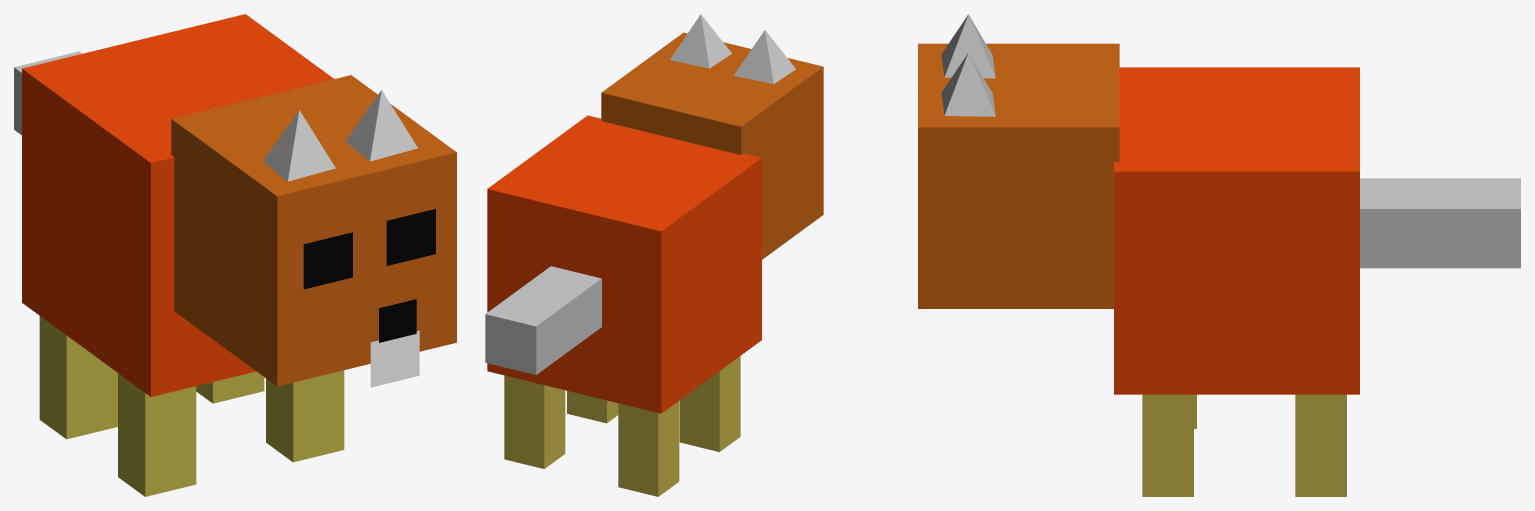
The model's file is cat1x.obj.
The picture shows the model from 3 angles, left to right: view 1: azimuth 30°, elevation 25°; view 2: azimuth 150°, elevation 25°; view 3: azimuth 270°, elevation 25°; orthographic projection. The views are drawn at different scales.
Parts seen in each view (by area): view 1: 立方体_材质.002, Cube_Material, 立方体.003_材质.017, 立方体.004_材质.006, 立方体.002_材质.016, 锥体_材质.019, 锥体.001_材质.020, 立方体.007_材质.018, 立方体.010_材质.010, 立方体.011_材质.011, 立方体.001_材质.015, 立方体.008_材质.008 (+1 smaller); view 2: Cube_Material, 立方体_材质.002, 立方体.005_材质.007, 立方体.004_材质.006, 立方体.001_材质.015, 立方体.003_材质.017, 锥体.001_材质.020, 锥体_材质.019, 立方体.002_材质.016; view 3: Cube_Material, 立方体_材质.002, 立方体.005_材质.007, 立方体.001_材质.015, 立方体.002_材质.016, 锥体.001_材质.020, 锥体_材质.019.
Boxes of the visible parts, bbox=[...] form: 立方体_材质.002: bbox=[171, 75, 456, 386]; Cube_Material: bbox=[22, 14, 333, 396]; 立方体.003_材质.017: bbox=[118, 373, 196, 496]; 立方体.004_材质.006: bbox=[39, 316, 117, 439]; 立方体.002_材质.016: bbox=[266, 370, 344, 462]; 锥体_材质.019: bbox=[263, 110, 335, 181]; 锥体.001_材质.020: bbox=[345, 90, 417, 161]; 立方体.007_材质.018: bbox=[386, 209, 435, 265]; 立方体.010_材质.010: bbox=[303, 232, 352, 289]; 立方体.011_材质.011: bbox=[370, 330, 419, 387]; 立方体.001_材质.015: bbox=[196, 371, 264, 403]; 立方体.008_材质.008: bbox=[379, 299, 416, 342]; Cube_Material: bbox=[487, 115, 761, 413]; 立方体_材质.002: bbox=[601, 32, 823, 259]; 立方体.005_材质.007: bbox=[485, 266, 601, 374]; 立方体.004_材质.006: bbox=[618, 401, 679, 496]; 立方体.001_材质.015: bbox=[504, 375, 565, 468]; 立方体.003_材质.017: bbox=[679, 356, 740, 451]; 锥体.001_材质.020: bbox=[670, 14, 731, 68]; 锥体_材质.019: bbox=[734, 30, 795, 84]; 立方体.002_材质.016: bbox=[567, 391, 618, 423]; Cube_Material: bbox=[1114, 67, 1359, 394]; 立方体_材质.002: bbox=[918, 43, 1119, 308]; 立方体.005_材质.007: bbox=[1360, 178, 1520, 268]; 立方体.001_材质.015: bbox=[1295, 394, 1346, 496]; 立方体.002_材质.016: bbox=[1142, 394, 1193, 496]; 锥体.001_材质.020: bbox=[941, 52, 995, 116]; 锥体_材质.019: bbox=[941, 14, 995, 78].
Bounding box in the file's own units: 2 × 3.76 × 5.43.
